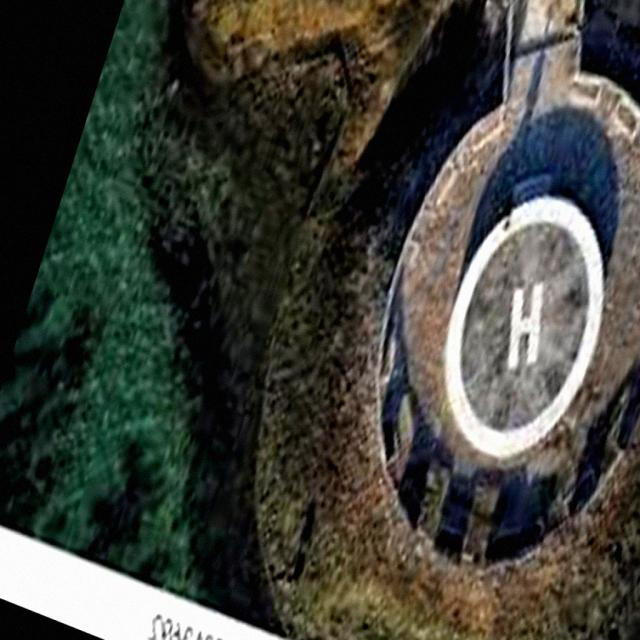helipad: (439, 191, 605, 461)
